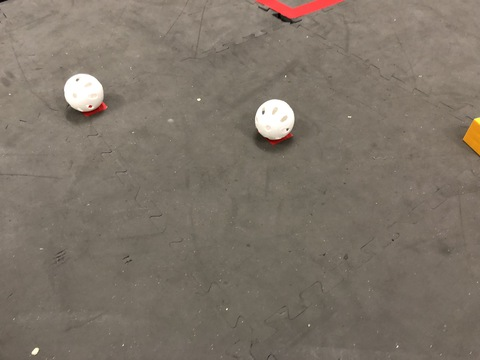ball: (57, 65, 113, 120), (250, 93, 300, 145)
block: (456, 112, 480, 162)
